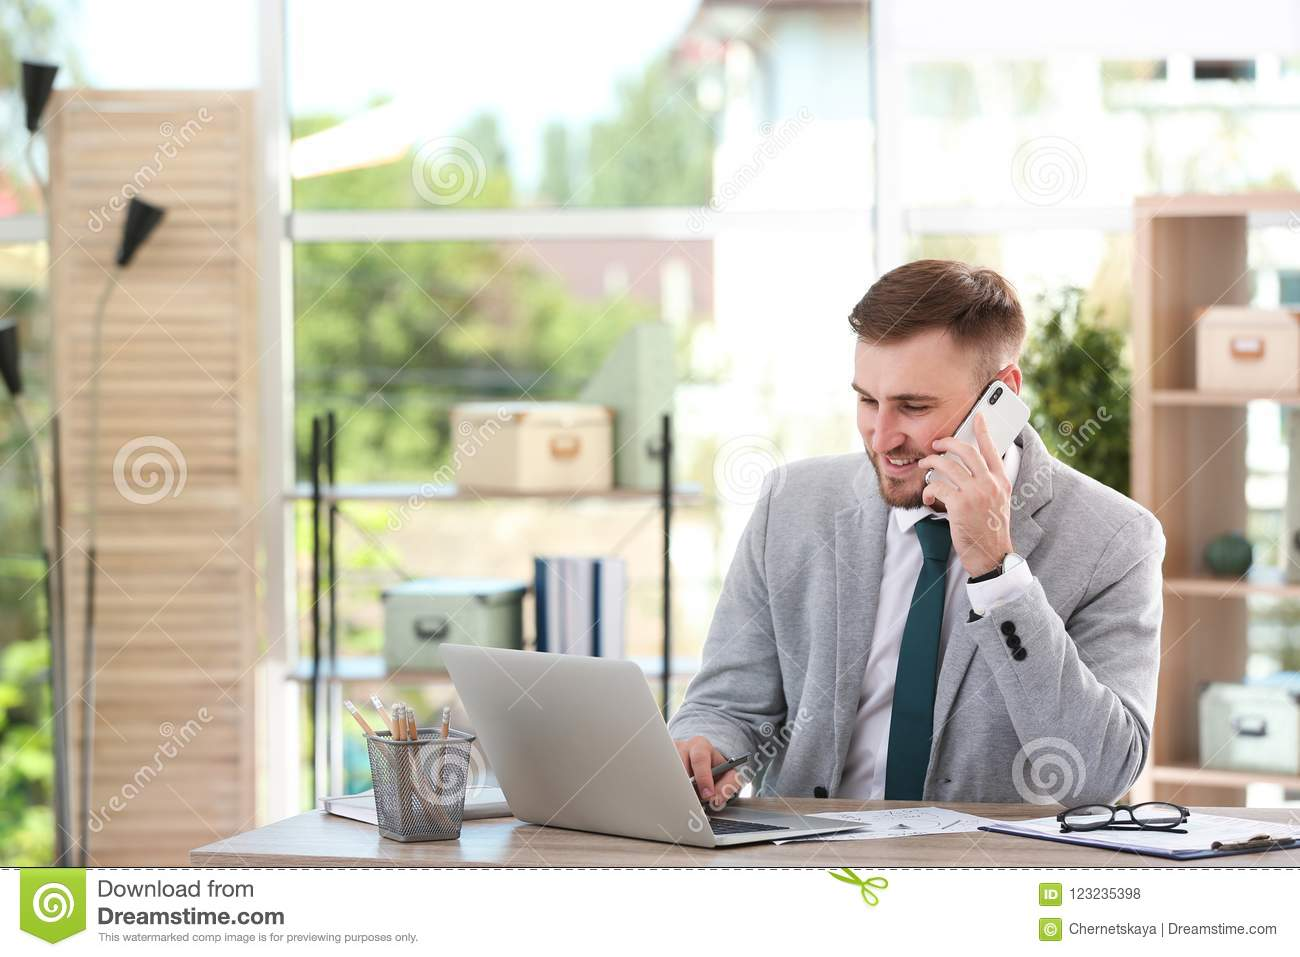phone: (925, 378, 1031, 504)
talk: (851, 363, 1031, 563)
